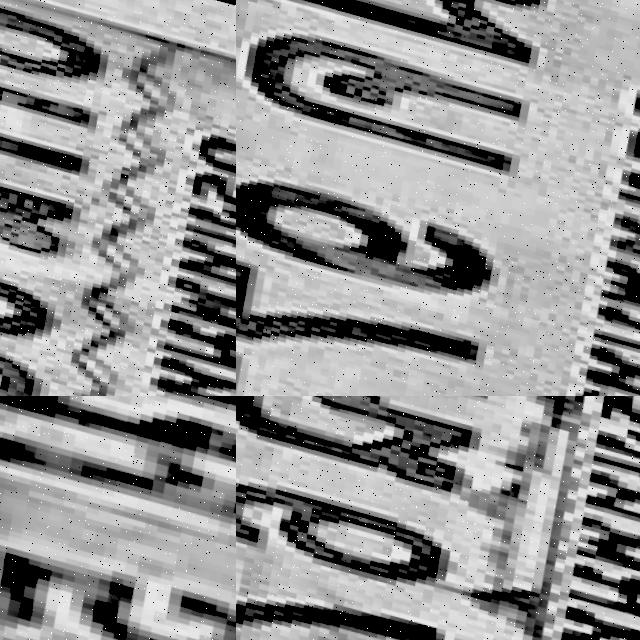license-plate: (236, 0, 640, 396), (236, 396, 640, 640), (0, 0, 236, 396), (0, 396, 236, 640)
